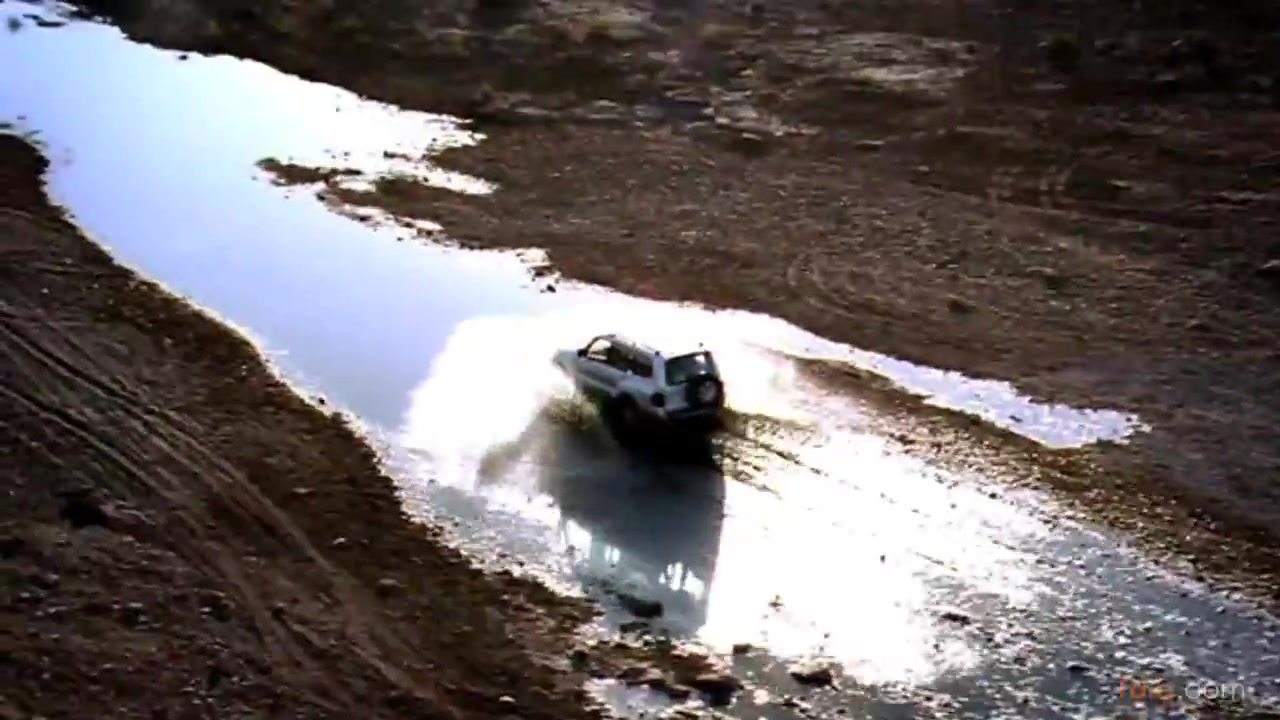car: (549, 333, 732, 439)
